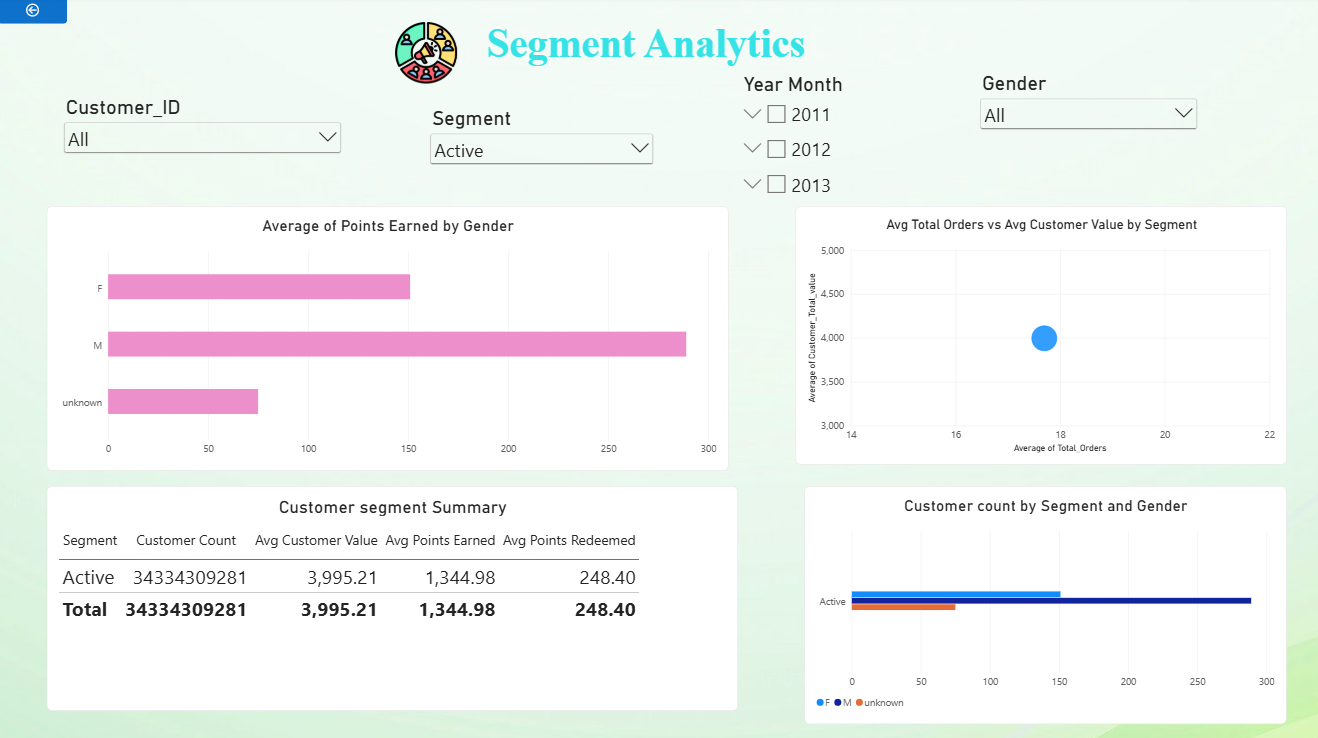

What the dashboard file says about the page in this screenshot:
{"tool":"powerbi","page":{"name":"Segment Analytics","canvas":[1920,1080],"ordinal":1},"visuals":[{"type":"textbox","box":[10.3,37,1854.6,123.5],"z":0},{"type":"image","box":[571.9,36.2,95.9,92.3],"z":1000},{"type":"clusteredBarChart","title":"Average of Points Earned by Gender","fields":{"Category":["customer.Gender"],"Y":["CountNonNull(customer.Points_earned)"]},"box":[70.8,303.5,986.8,383.6],"z":2000},{"type":"scatterChart","title":"Avg Total Orders vs Avg Customer Value by Segment","fields":{"Category":["customer.Segment"],"Size":["Sum(customer.Points_earned)"],"X":["Avg(customer.Total_Orders)"],"Y":["Avg(customer.Customer_Total_value)"]},"box":[1154.4,303.5,711.3,374.2],"z":3000},{"type":"tableEx","title":"Customer segment Summary","fields":{"Values":["customer.Segment","customer.Customer_Count","Avg(customer.Customer_Total_value)","customer.Avg_Points_Earned","customer.Avg_Points_Redeemed"]},"box":[70.8,709.4,1000.7,325.7],"z":4000},{"type":"clusteredBarChart","title":"Customer count by Segment and Gender","fields":{"Category":["customer.Segment"],"Series":["customer.Gender"],"Y":["CountNonNull(customer.Customer_ID)"]},"box":[1167.4,709.4,698.2,344.5],"z":5000},{"type":"slicer","fields":{"Values":["customer.Gender"]},"box":[1416.9,108,324,204.8],"z":6000},{"type":"slicer","fields":{"Values":["customer.Segment"]},"box":[620,160.1,333.3,273.7],"z":7000},{"type":"slicer","fields":{"Values":["customer.Customer_ID"]},"box":[91.2,143.4,411.5,119.2],"z":8000},{"type":"slicer","fields":{"Values":["Calendar.Year","Calendar.Month"]},"box":[1070.6,109.9,322.1,188.1],"z":8001},{"type":"actionButton","box":[0,0,100,40],"z":8002}]}

Visuals, with their boxes in screenshot pixels (x1, y1, x2, y2), scaled from the page's 1920x1080 canvas onto the 1318x738 screenshot:
textbox: <region>7, 25, 1280, 110</region>
image: <region>393, 25, 458, 88</region>
"Average of Points Earned by Gender" clusteredBarChart: <region>49, 207, 726, 470</region>
"Avg Total Orders vs Avg Customer Value by Segment" scatterChart: <region>792, 207, 1281, 463</region>
"Customer segment Summary" tableEx: <region>49, 485, 736, 707</region>
"Customer count by Segment and Gender" clusteredBarChart: <region>801, 485, 1281, 720</region>
slicer - customer.Gender: <region>973, 74, 1195, 214</region>
slicer - customer.Segment: <region>426, 109, 654, 296</region>
slicer - customer.Customer_ID: <region>63, 98, 345, 179</region>
slicer - Calendar.Year x Calendar.Month: <region>735, 75, 956, 204</region>
actionButton: <region>0, 0, 69, 27</region>
